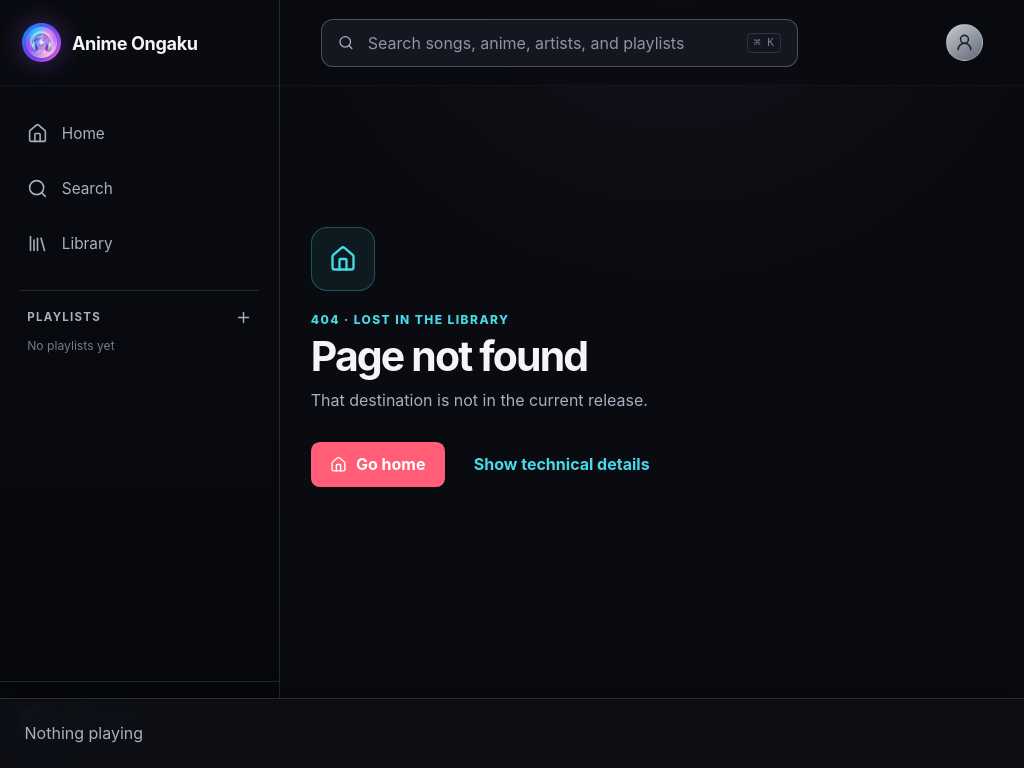
Scenario: web player app shell › renders sanitized not-found details with safe expandable details
This screenshot has width=1024, height=768.
expect the heading "Page not found" is shown: met, box [311,335,587,378]
Step 1. Click the button "Show technical details" → (562, 464), box [454,442,669,487]
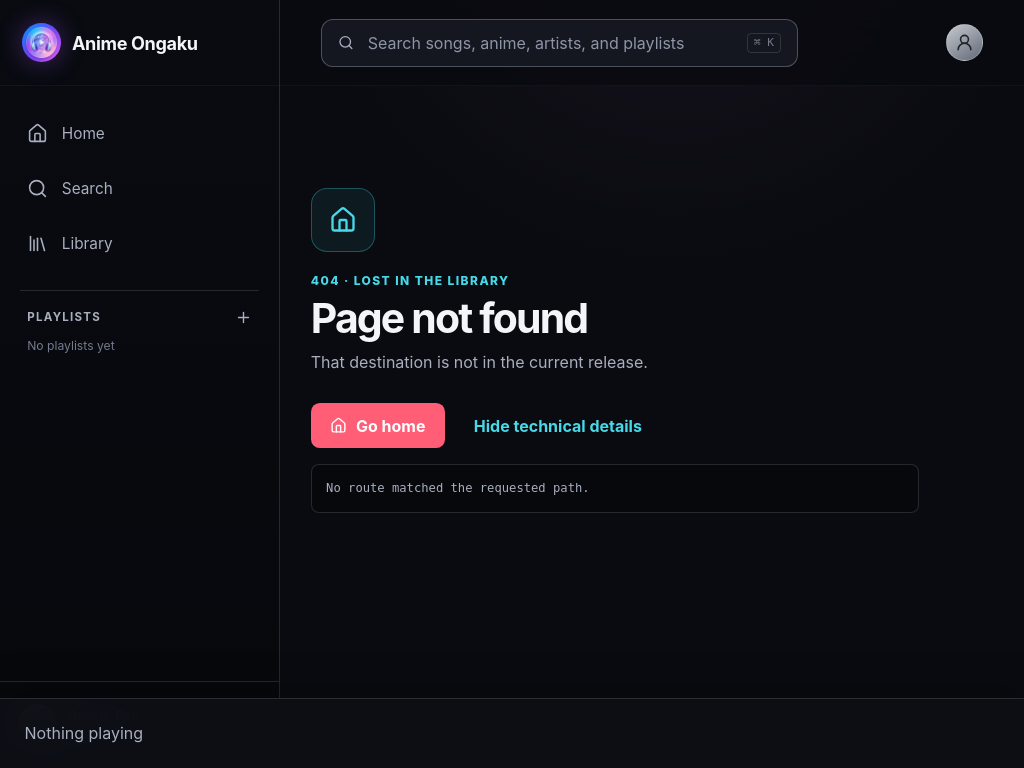
expect the text named "technical details" shows "No route matched": met, box [326,482,590,496]
